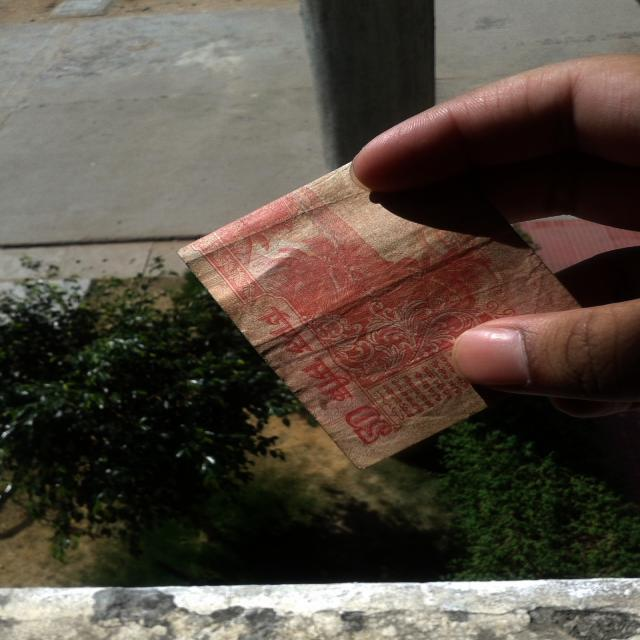20rs: (144, 144, 598, 466)
